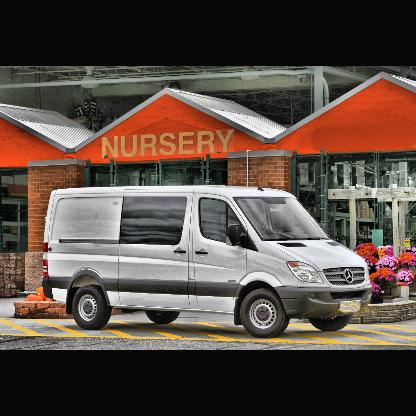Mercedes-Benz Sprinter Van 2012: (42, 165, 372, 339)
